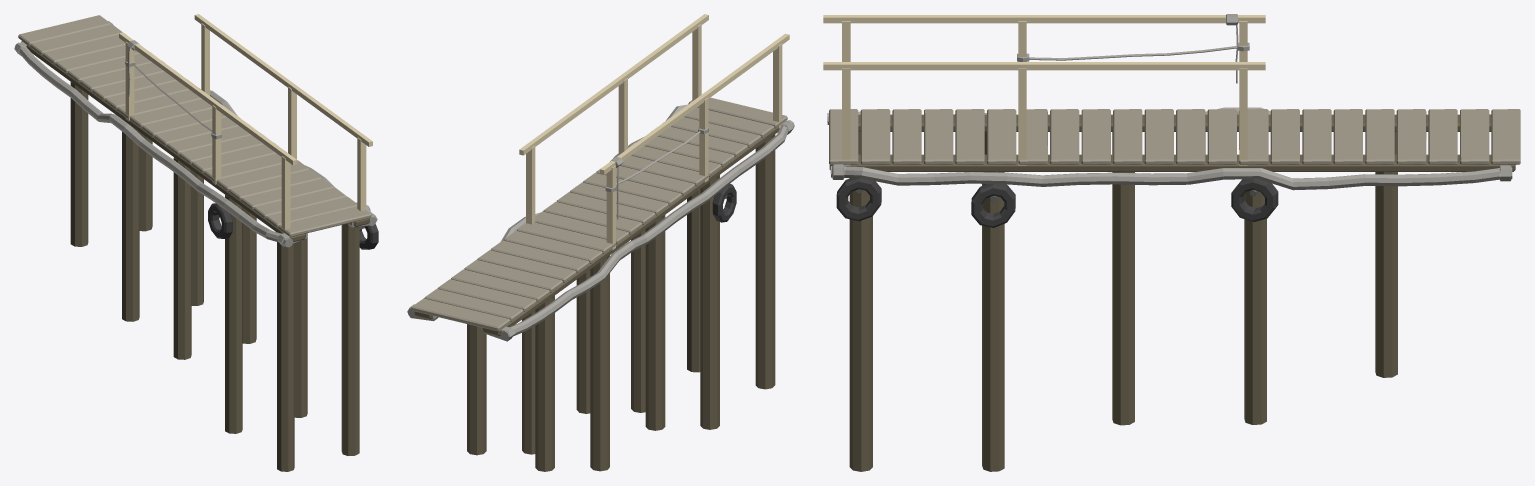
Rendered from pier.fbx.
3 views of the same model, side by side, from view 1: azimuth 30°, elevation 25°; view 2: azimuth 150°, elevation 25°; view 3: azimuth 270°, elevation 25° (orthographic). The views are drawn at different scales.
Visible parts, largest first — view 1: polySurface32, polySurface31, polySurface43, polySurface37, polySurface27, polySurface36, polySurface38, polySurface42, polySurface41, pCube99, pCube97, pCube66 (+32 smaller); view 2: polySurface31, polySurface43, polySurface37, polySurface36, polySurface27, polySurface38, polySurface39, polySurface42, polySurface32, polySurface41, pCube99, polySurface40 (+31 smaller); view 3: polySurface30, polySurface32, polySurface42, polySurface41, pCube67, polySurface40, polySurface39, pCube99, pCube97, pCube90, pCube73, pCube79 (+26 smaller).
Part boxes in pixels (left/top/right/bottom): polySurface32: left=341, top=223, right=359, bottom=455; polySurface31: left=277, top=242, right=294, bottom=471; polySurface43: left=225, top=195, right=242, bottom=433; polySurface37: left=173, top=157, right=191, bottom=359; polySurface27: left=15, top=42, right=293, bottom=247; polySurface36: left=122, top=122, right=139, bottom=321; polySurface38: left=70, top=82, right=88, bottom=246; polySurface42: left=294, top=233, right=307, bottom=417; polySurface41: left=242, top=208, right=256, bottom=343; pCube99: left=194, top=14, right=372, bottom=146; pCube97: left=119, top=32, right=297, bottom=165; pCube66: left=21, top=41, right=305, bottom=241; polySurface31: left=755, top=134, right=775, bottom=389; polySurface43: left=700, top=175, right=719, bottom=429; polySurface37: left=645, top=215, right=665, bottom=430; polySurface36: left=590, top=255, right=609, bottom=471; polySurface27: left=500, top=120, right=794, bottom=340; polySurface38: left=535, top=295, right=554, bottom=471; polySurface39: left=467, top=324, right=486, bottom=455; polySurface42: left=631, top=229, right=645, bottom=412; polySurface32: left=687, top=189, right=700, bottom=372; polySurface41: left=576, top=270, right=590, bottom=413; pCube99: left=519, top=14, right=708, bottom=155; polySurface40: left=522, top=310, right=535, bottom=454; polySurface30: left=830, top=166, right=1512, bottom=190; polySurface32: left=849, top=190, right=872, bottom=471; polySurface42: left=982, top=171, right=1004, bottom=471; polySurface41: left=1112, top=171, right=1134, bottom=425; pCube67: left=829, top=154, right=1515, bottom=171; polySurface40: left=1244, top=190, right=1266, bottom=424; polySurface39: left=1375, top=171, right=1397, bottom=377; pCube99: left=823, top=62, right=1265, bottom=70; pCube97: left=823, top=15, right=1265, bottom=23; pCube90: left=1396, top=109, right=1426, bottom=164; pCube73: left=860, top=109, right=890, bottom=164; pCube79: left=1050, top=109, right=1079, bottom=164.
Size of the model in its own units: 11.45 by 33.24 by 51.54.
